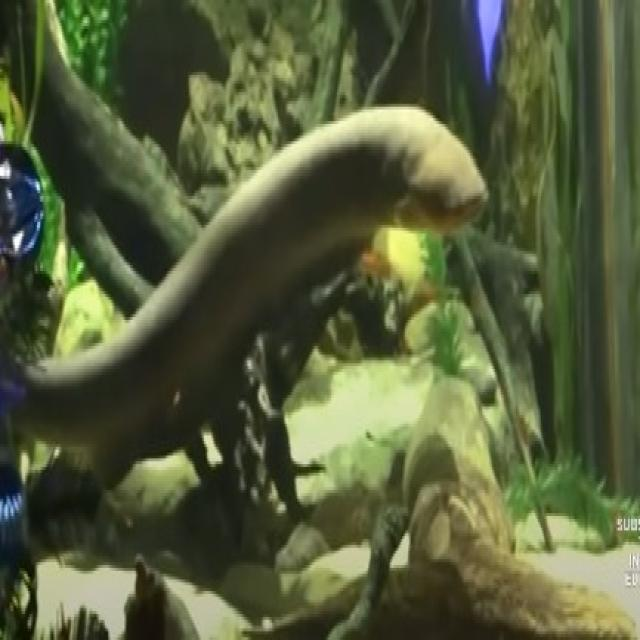Freshwater-Eel: (11, 105, 490, 522)
